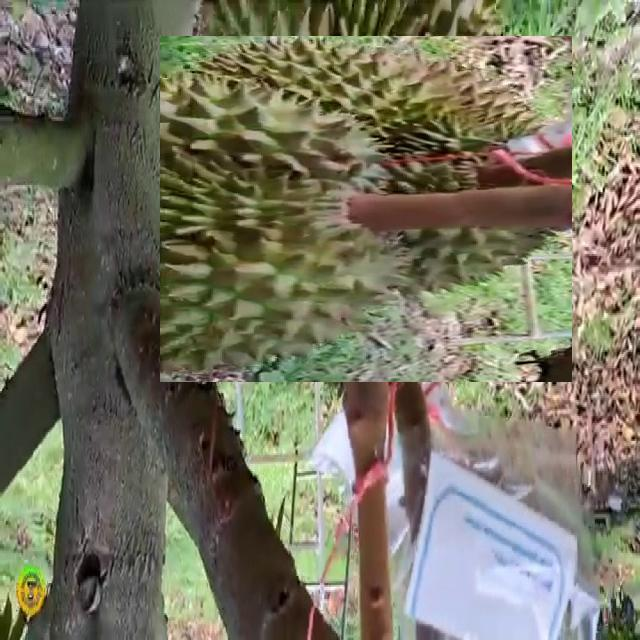durian: (176, 19, 555, 398)
